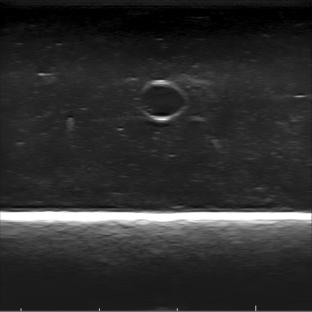vessel: (137, 79, 189, 121)
